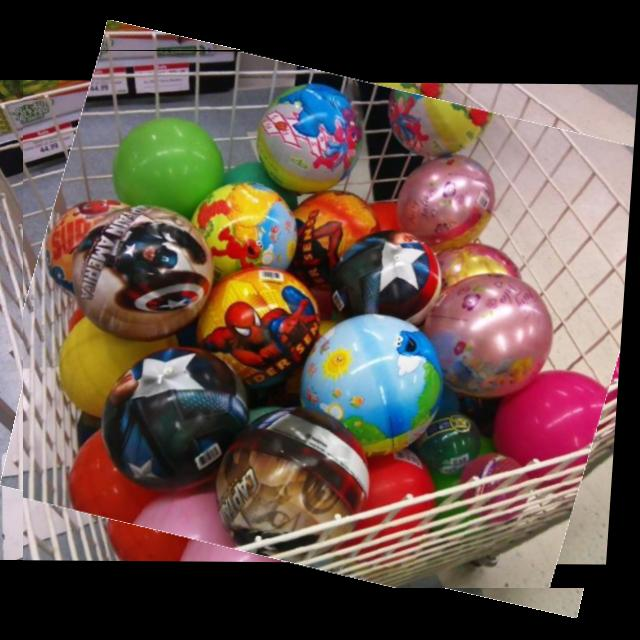Football: (23, 50, 640, 588)
